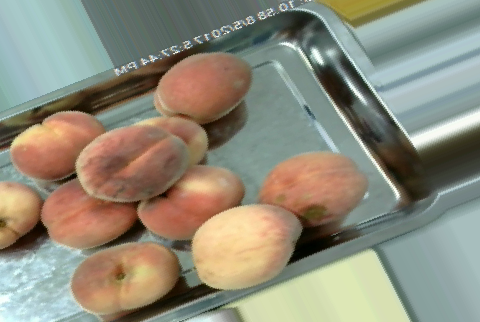Peach: (188, 204, 298, 287), (75, 123, 189, 201), (136, 163, 246, 242), (70, 242, 180, 316), (258, 151, 365, 227), (152, 52, 251, 123), (9, 109, 103, 180), (40, 180, 137, 246), (0, 178, 42, 248)
